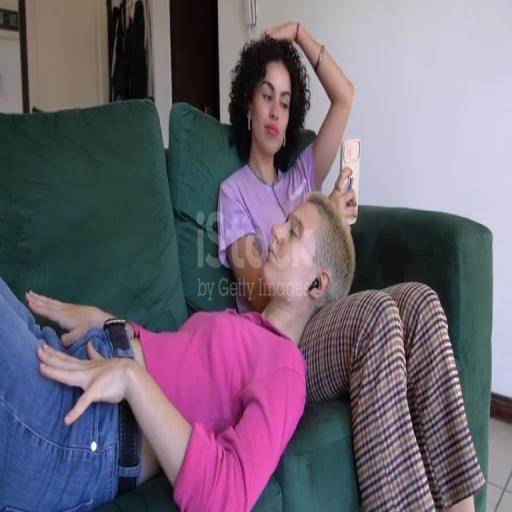earphone: (307, 274, 321, 298)
